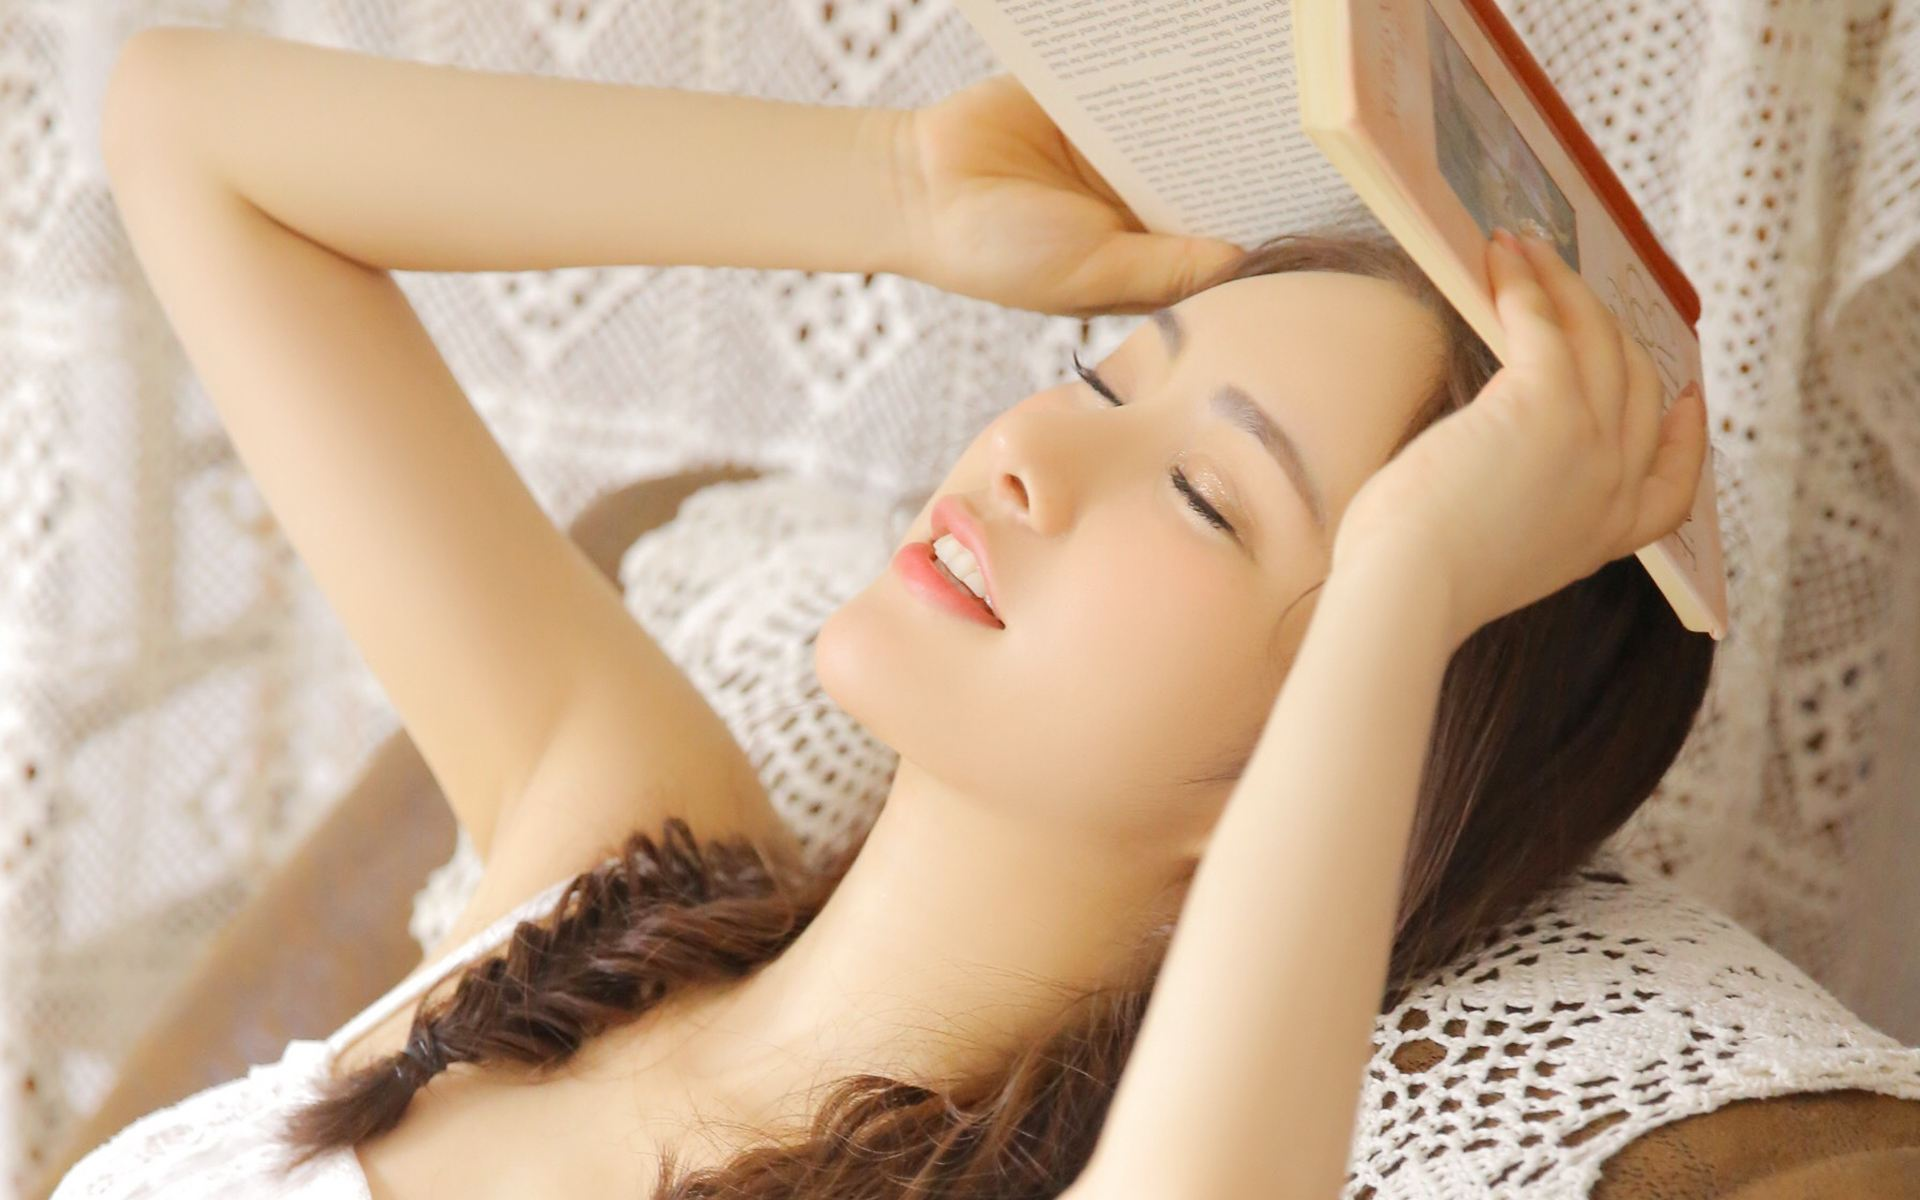person: (176, 104, 1615, 1066)
